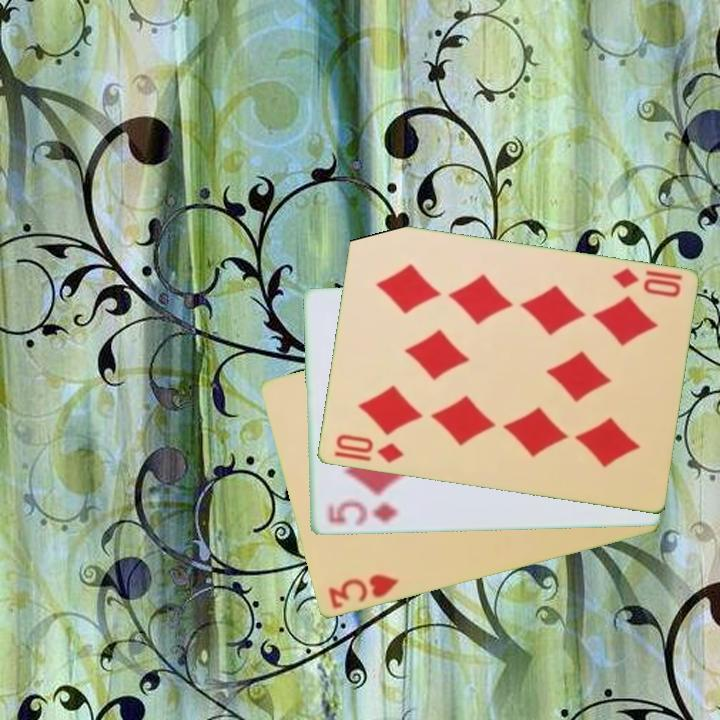10d: (608, 264, 685, 301), (331, 431, 406, 467)
3h: (324, 571, 402, 613)
5d: (324, 499, 401, 528)
